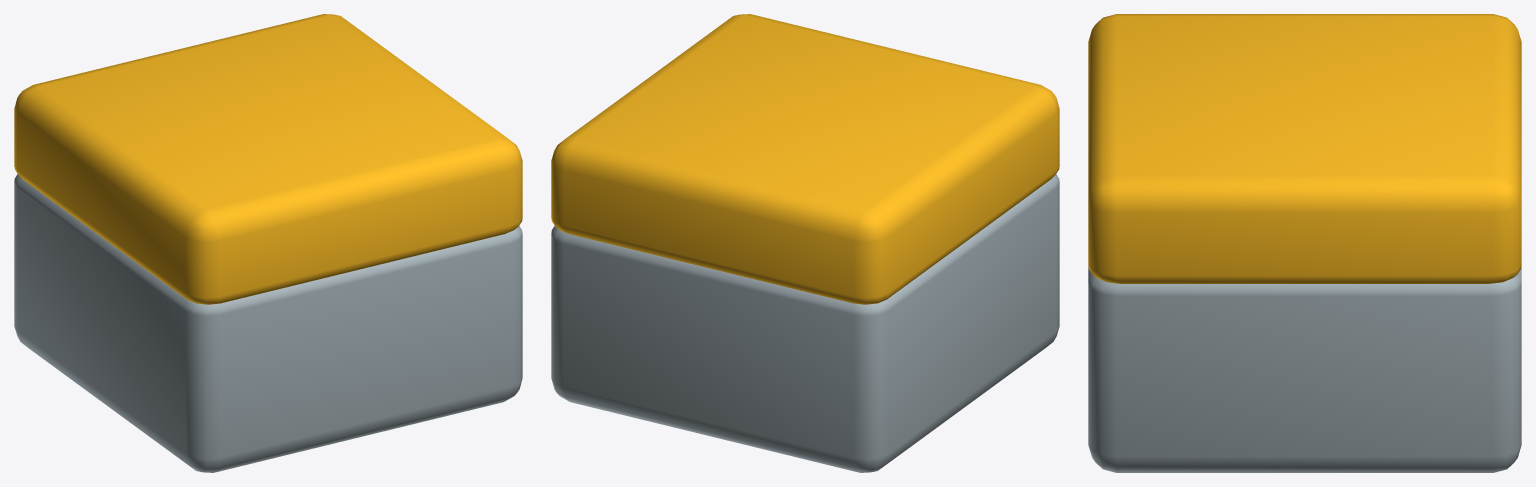
The model's file is tileMedium_teamYellow.glb.
3 views of the same model, side by side, from view 1: azimuth 30°, elevation 25°; view 2: azimuth 150°, elevation 25°; view 3: azimuth 270°, elevation 25° (orthographic). The views are drawn at different scales.
Parts seen in each view (by area): view 1: tileMedium_teamYellow; view 2: tileMedium_teamYellow; view 3: tileMedium_teamYellow.
Part boxes in pixels (x1,y1,x2,y2): tileMedium_teamYellow: (14, 14, 522, 472); tileMedium_teamYellow: (551, 14, 1059, 472); tileMedium_teamYellow: (1088, 14, 1521, 472).
Size of the model in its own units: 0.7 by 0.525 by 0.7.
